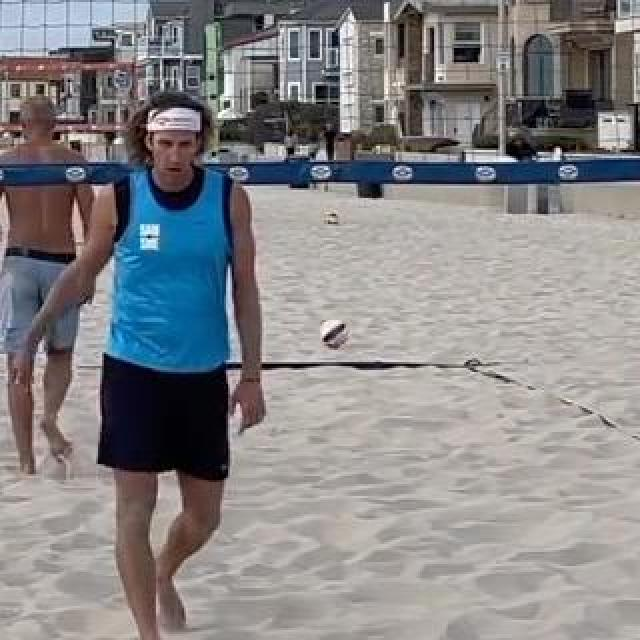volleyball: (320, 319, 348, 349), (324, 211, 340, 227)
